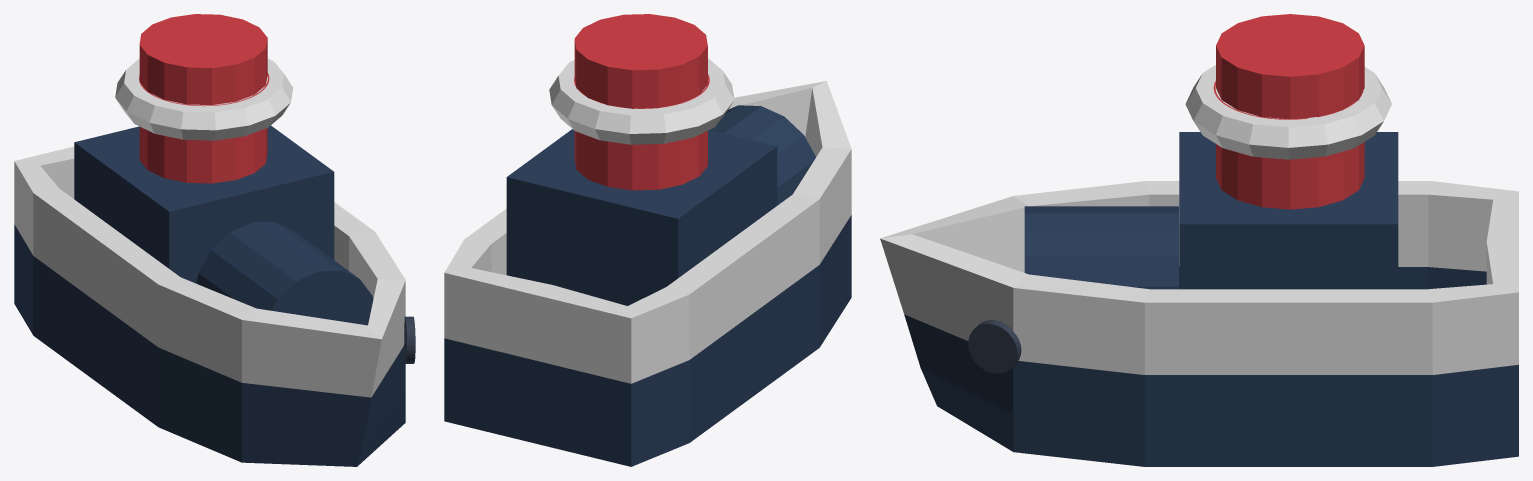
Rendered from Boat_Low.fbx.
3 views of the same model, side by side, from view 1: azimuth 30°, elevation 25°; view 2: azimuth 150°, elevation 25°; view 3: azimuth 270°, elevation 25° (orthographic). The views are drawn at different scales.
Visible parts, largest first — view 1: Boat_Low; view 2: Boat_Low; view 3: Boat_Low.
Part boxes in pixels (x1,y1,x2,y2): Boat_Low: [14, 14, 415, 466]; Boat_Low: [444, 14, 851, 466]; Boat_Low: [880, 14, 1518, 466].
Size of the model in its own units: 48.43 by 67.01 by 108.
